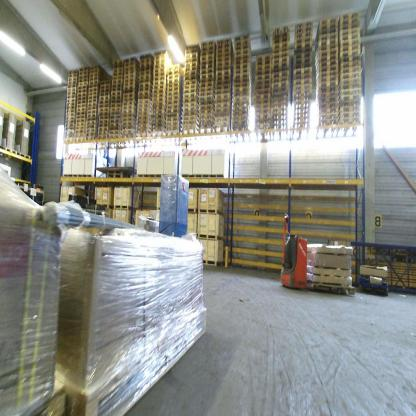pallet: (53, 301, 210, 415), (26, 369, 70, 416), (306, 280, 356, 297), (80, 78, 137, 90), (314, 17, 337, 44), (315, 118, 337, 141), (62, 172, 106, 183), (337, 119, 360, 138), (180, 172, 226, 181), (254, 123, 272, 144), (232, 125, 253, 142), (315, 55, 336, 71), (135, 172, 175, 180), (291, 124, 311, 140), (270, 124, 289, 140), (338, 66, 361, 77), (339, 12, 358, 25), (338, 75, 360, 86), (122, 134, 139, 148), (338, 79, 359, 90), (317, 49, 337, 60), (338, 91, 359, 101), (338, 106, 359, 116), (151, 131, 168, 143), (109, 135, 124, 148), (74, 138, 89, 151), (106, 173, 130, 181), (135, 131, 152, 142), (339, 38, 359, 47), (272, 36, 291, 45), (107, 171, 131, 178), (85, 136, 99, 148), (18, 150, 33, 161), (4, 144, 19, 155), (296, 21, 314, 30), (272, 26, 288, 36), (256, 74, 270, 85), (317, 93, 338, 100), (182, 119, 200, 127), (98, 135, 110, 147), (339, 24, 359, 31), (214, 125, 231, 133), (184, 52, 201, 60), (234, 97, 251, 105), (293, 68, 312, 75), (293, 78, 312, 85), (273, 32, 289, 40), (184, 80, 200, 88), (294, 56, 310, 64), (272, 51, 288, 59), (182, 124, 200, 131), (138, 106, 152, 115), (293, 63, 311, 70), (340, 113, 361, 119), (137, 111, 152, 119), (296, 47, 311, 55), (340, 34, 360, 40), (234, 82, 251, 89), (319, 75, 336, 82), (342, 61, 359, 68), (200, 125, 214, 133), (256, 54, 270, 62), (183, 102, 199, 109), (183, 98, 199, 105), (185, 89, 199, 97), (270, 87, 286, 94), (123, 61, 141, 67), (294, 37, 312, 43), (293, 89, 311, 95), (234, 64, 249, 71), (184, 93, 199, 100), (184, 75, 199, 82), (185, 71, 200, 78), (136, 115, 151, 122), (339, 46, 360, 51), (294, 53, 311, 59), (340, 51, 360, 56), (199, 118, 213, 125), (255, 113, 269, 120), (216, 36, 230, 43), (216, 66, 232, 72), (184, 112, 200, 118), (122, 89, 138, 95), (295, 32, 311, 38), (271, 97, 287, 103), (234, 107, 250, 113), (272, 62, 288, 68), (136, 123, 152, 129), (183, 106, 196, 113), (123, 105, 136, 112), (199, 81, 214, 87), (255, 69, 270, 75), (234, 35, 249, 41), (235, 45, 250, 51), (151, 88, 166, 94), (122, 100, 137, 106), (122, 96, 137, 102), (151, 114, 166, 120), (273, 76, 288, 82), (255, 89, 270, 95), (253, 99, 268, 105), (273, 46, 288, 52), (272, 56, 287, 62), (235, 72, 250, 78), (340, 56, 358, 61), (199, 110, 216, 115), (214, 117, 231, 122), (214, 94, 231, 99), (272, 43, 289, 48), (270, 105, 287, 110), (232, 92, 249, 97), (235, 55, 249, 61), (184, 115, 198, 121), (184, 85, 198, 91), (152, 106, 166, 112), (152, 119, 166, 125), (198, 86, 214, 91), (199, 90, 215, 95), (200, 100, 216, 105), (200, 114, 216, 119), (214, 98, 230, 103), (216, 71, 232, 76), (255, 64, 271, 69), (234, 40, 250, 45), (125, 58, 141, 63), (271, 108, 287, 113), (256, 109, 269, 115), (65, 138, 76, 145), (340, 30, 359, 34), (201, 45, 216, 50), (201, 50, 216, 55), (200, 55, 215, 60), (200, 73, 215, 78), (200, 105, 215, 110), (216, 113, 231, 118), (215, 102, 230, 107), (215, 85, 230, 90), (216, 61, 231, 66), (256, 60, 271, 65), (185, 67, 200, 72), (185, 62, 200, 67), (138, 100, 153, 105), (273, 67, 288, 72), (202, 40, 214, 46), (124, 76, 136, 82), (153, 101, 165, 107), (294, 42, 312, 46), (293, 85, 311, 89), (293, 95, 311, 99), (67, 67, 79, 73), (201, 59, 215, 64), (216, 76, 230, 81), (153, 71, 167, 76), (153, 76, 167, 81), (152, 98, 166, 103), (234, 77, 248, 82), (216, 43, 230, 48), (198, 78, 215, 82), (320, 72, 337, 76), (294, 74, 311, 78), (168, 65, 179, 71), (168, 90, 179, 96), (167, 103, 178, 109), (99, 84, 110, 90), (167, 74, 180, 79), (123, 113, 136, 118), (214, 91, 230, 95), (136, 121, 152, 125), (272, 73, 288, 77), (271, 82, 287, 86), (271, 93, 287, 97), (200, 65, 215, 69), (200, 96, 215, 100), (215, 108, 230, 112), (215, 81, 230, 85), (234, 60, 249, 64), (167, 70, 179, 75), (154, 59, 166, 64), (154, 67, 166, 72), (122, 93, 137, 97), (255, 85, 270, 89), (254, 105, 269, 109), (234, 88, 249, 92), (216, 48, 231, 52), (110, 114, 122, 119), (201, 69, 215, 73), (235, 51, 249, 55), (153, 81, 167, 85), (152, 94, 166, 98), (138, 92, 152, 96), (139, 96, 153, 100), (166, 113, 177, 118), (166, 126, 177, 131), (124, 69, 135, 74), (154, 64, 167, 68), (139, 82, 152, 86), (122, 117, 135, 121), (255, 95, 268, 99), (168, 99, 178, 104), (90, 68, 100, 73), (87, 105, 97, 110), (110, 110, 120, 115), (77, 96, 87, 101), (100, 88, 110, 93), (98, 123, 108, 128), (65, 126, 75, 131), (214, 122, 230, 125), (217, 53, 229, 57), (168, 86, 180, 90), (154, 55, 166, 59), (151, 85, 167, 88), (97, 130, 109, 134), (89, 90, 98, 95), (78, 88, 87, 93), (77, 110, 86, 115), (80, 66, 89, 71), (234, 103, 249, 106), (166, 118, 177, 122), (167, 122, 178, 126), (89, 66, 100, 70), (111, 80, 122, 84), (111, 92, 122, 96), (110, 102, 121, 106), (99, 100, 110, 104), (122, 121, 133, 125), (166, 79, 180, 82), (124, 66, 138, 69), (122, 111, 136, 114), (167, 109, 177, 113), (89, 84, 99, 88), (85, 128, 95, 132), (111, 88, 121, 92), (110, 106, 120, 110), (77, 92, 87, 96), (100, 104, 110, 108), (100, 115, 108, 120), (80, 70, 88, 75), (67, 98, 77, 102), (66, 105, 76, 109), (68, 73, 78, 77), (217, 58, 230, 61), (167, 82, 180, 85), (185, 59, 198, 62), (89, 72, 98, 76), (89, 76, 98, 80), (89, 80, 98, 84), (88, 94, 97, 98), (88, 98, 97, 102), (87, 118, 96, 122), (85, 132, 94, 136), (112, 83, 121, 87), (77, 104, 86, 108), (77, 118, 86, 122), (76, 126, 85, 130), (97, 108, 109, 111), (99, 111, 108, 115), (99, 119, 108, 123), (79, 81, 88, 85), (67, 91, 76, 95), (66, 109, 75, 113), (68, 86, 75, 91), (168, 96, 179, 99), (99, 96, 110, 99), (79, 75, 90, 78), (89, 87, 97, 91), (87, 109, 95, 113), (77, 122, 85, 126), (66, 116, 74, 120), (86, 122, 96, 125), (111, 99, 121, 102), (100, 93, 110, 96), (67, 95, 77, 98), (88, 113, 95, 117), (88, 102, 97, 105), (86, 125, 95, 128), (112, 96, 121, 99), (77, 101, 86, 104), (77, 115, 86, 118), (67, 102, 76, 105), (66, 113, 75, 116), (68, 77, 77, 80), (66, 123, 75, 126), (78, 85, 86, 88), (69, 81, 77, 84), (77, 108, 85, 110), (98, 128, 106, 130), (113, 77, 123, 78)
pallet_truck: (275, 211, 357, 294)
